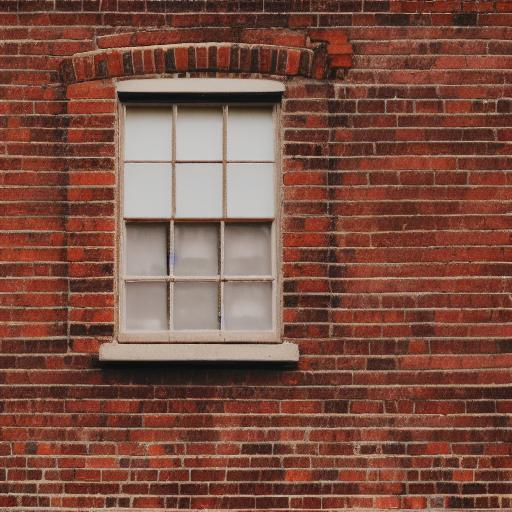Window: (67, 32, 334, 370)
